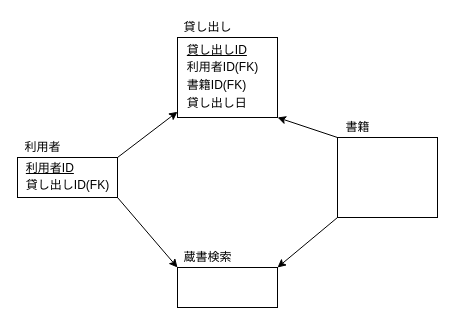
The diagram is 455 pixels wide and 325 high, and some of its shapes have lost their labels. Each missing label, with the centre of its shape:
"書籍ID 書籍情報 書架 破損状態" goes at point 387,177.
"書籍ID(FK)" goes at point 227,287.
